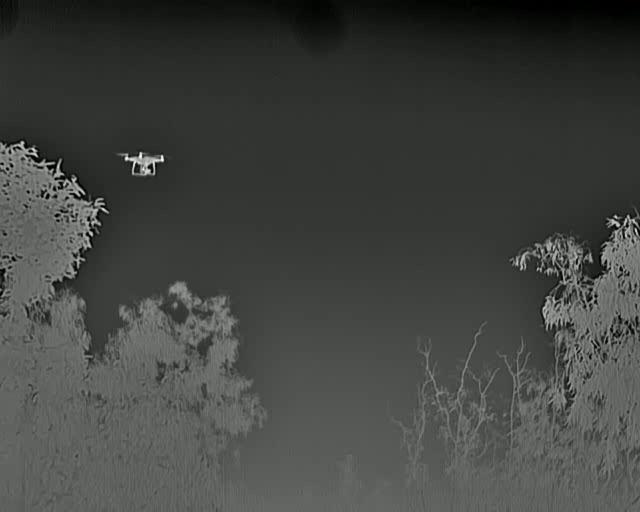DJI-Phantom: (114, 150, 175, 181)
